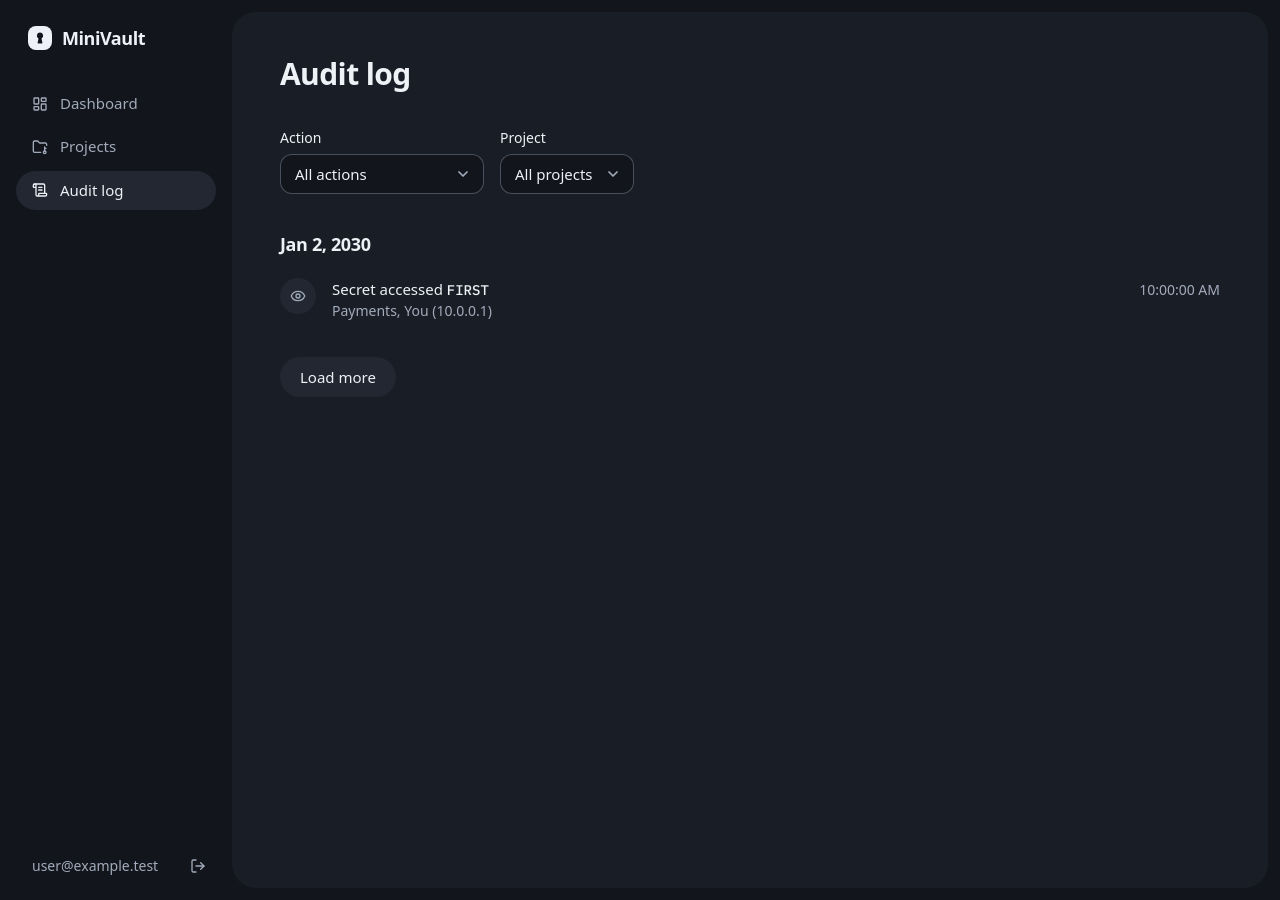
Test: loads more by cursor
What coordinates should you click on to do the following:
click the button "Load more"
I would click on:
 (338, 377)
Its box is left=280, top=357, right=396, bottom=397.
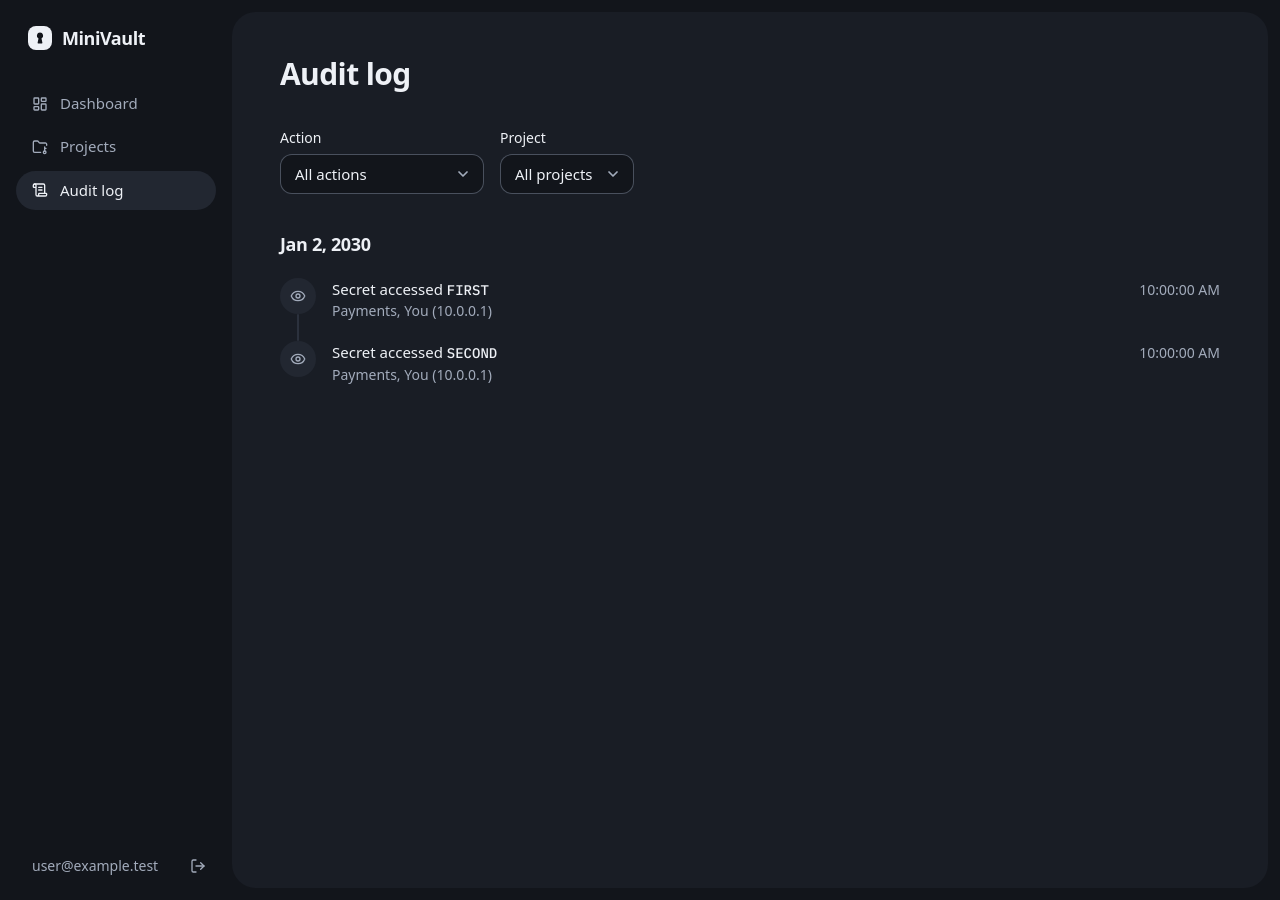
Expected: the text "FIRST" is shown, left=447, top=281, right=489, bottom=299
Now the text "SECOND" is shown, box left=447, top=344, right=497, bottom=362
Now the button "Load more" is gone
